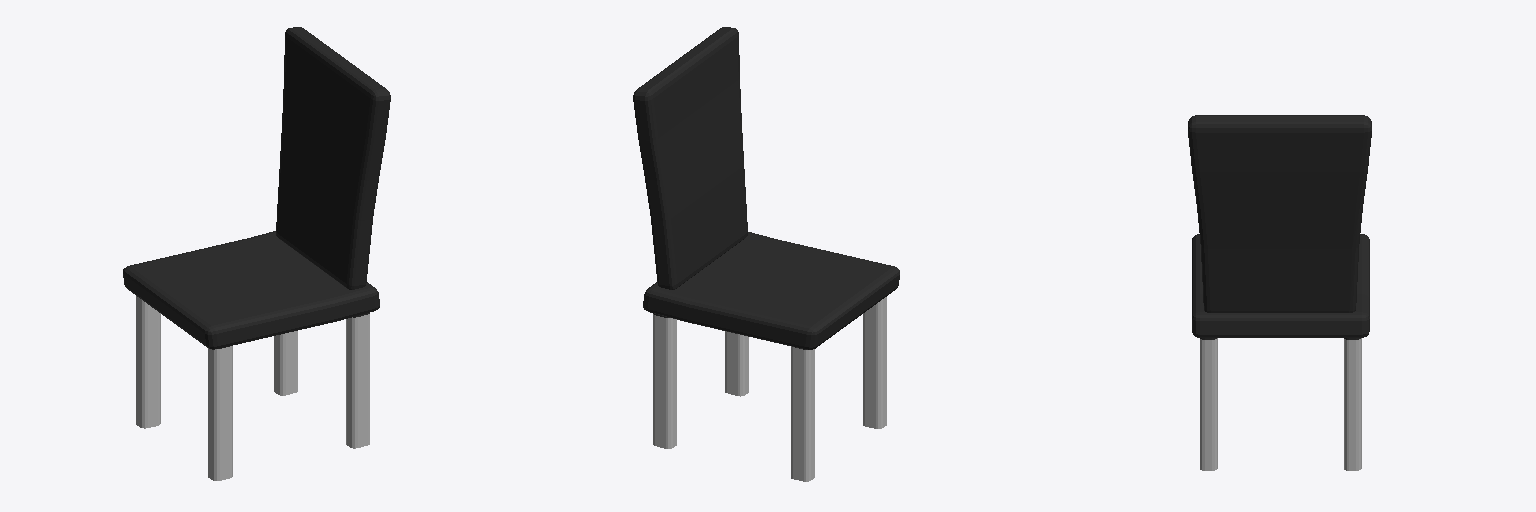
Rendered from Chair.obj.
The picture shows the model from 3 angles: view 1: azimuth 30°, elevation 25°; view 2: azimuth 150°, elevation 25°; view 3: azimuth 270°, elevation 25°; orthographic projection.
Size of the model in its own units: 1.12 by 2.08 by 0.9786.